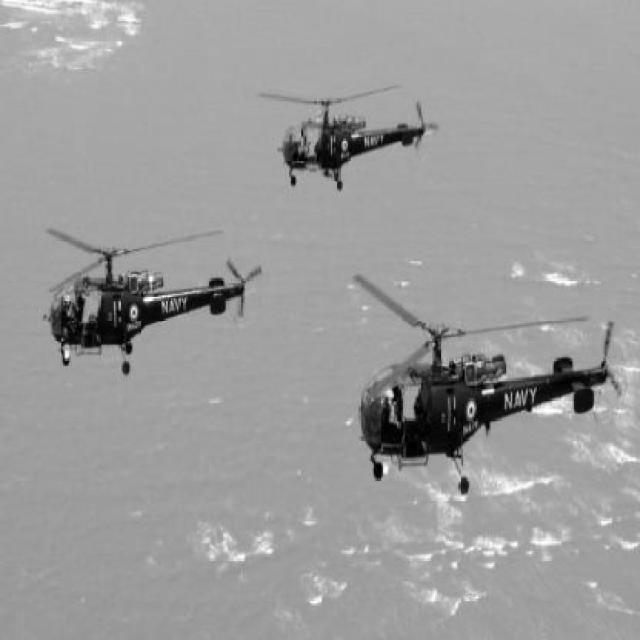helikopter: (344, 262, 626, 508), (36, 209, 264, 380), (254, 76, 440, 196)
